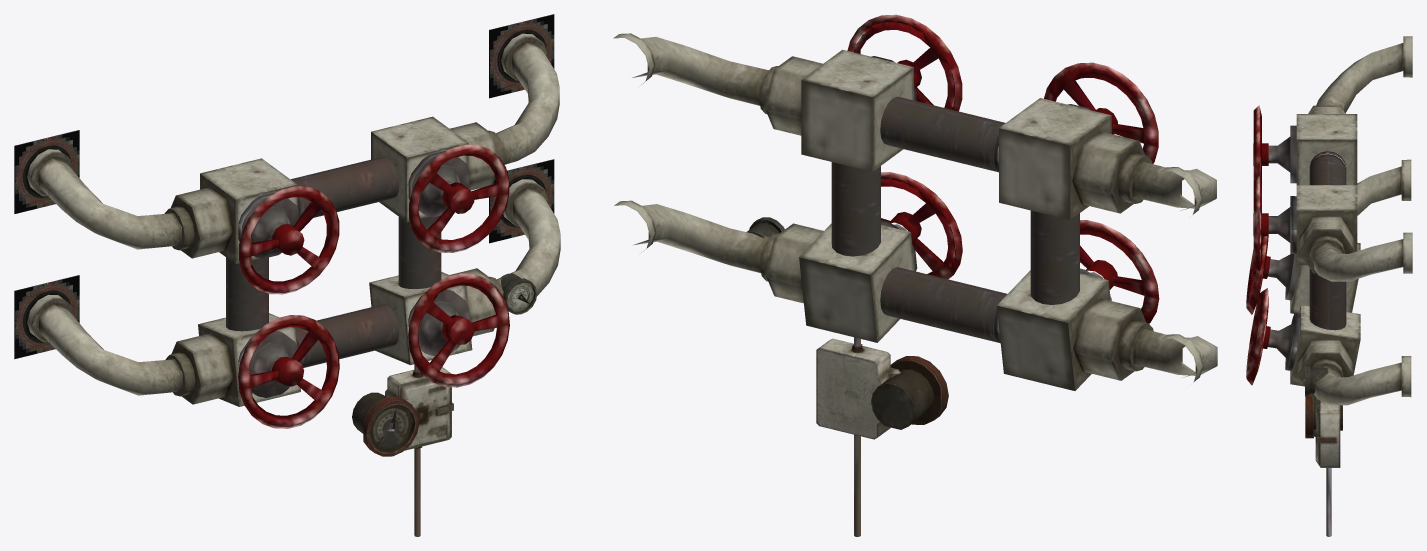
File: submarine_greeble_150x100_05.glb
The picture shows the model from 3 angles, left to right: view 1: azimuth 30°, elevation 25°; view 2: azimuth 150°, elevation 25°; view 3: azimuth 270°, elevation 25°; orthographic projection. The views are drawn at different scales.
Visible parts, largest first — view 1: submarine_greeble_150x100_05_LOD0; view 2: submarine_greeble_150x100_05_LOD0; view 3: submarine_greeble_150x100_05_LOD0.
Part boxes in pixels (bbox=[...]): submarine_greeble_150x100_05_LOD0: bbox=[14, 14, 560, 536]; submarine_greeble_150x100_05_LOD0: bbox=[613, 14, 1217, 536]; submarine_greeble_150x100_05_LOD0: bbox=[1246, 36, 1412, 536].
Bounding box in the file's own units: 1.54 × 1.2 × 0.4839.
Materials: 2 (2 with a texture image).
